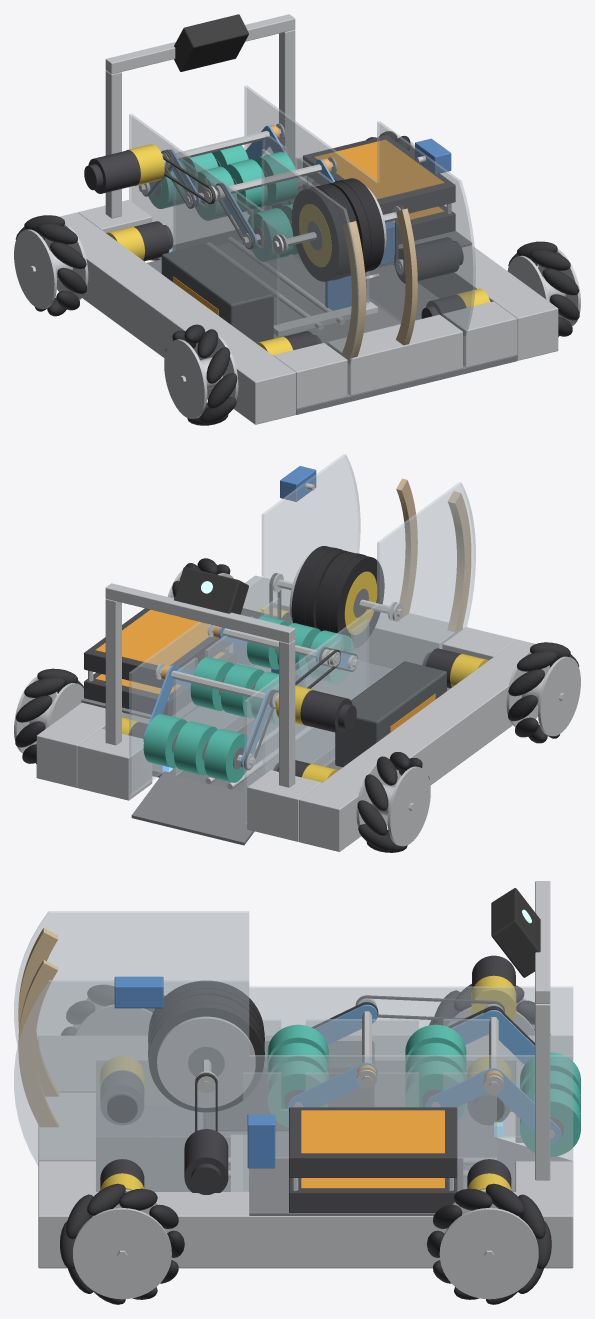
Rendered from revC_anim.glb.
3 views of the same model, one above another, from view 1: azimuth 30°, elevation 25°; view 2: azimuth 150°, elevation 25°; view 3: azimuth 270°, elevation 25° (orthographic). The views are drawn at different scales.
Parts seen in each view (by area): view 1: Side plate L, Side plate R, Frame rail L, Belly pan, Rear crossmember centre, Frame rail R, Channel wall L, Battery 12V, Expansion Hub label, Rear stub R, Rear stub L, Limelight 3A (+38 smaller); view 2: Side plate L, Side plate R, Frame rail L, Entry lip, Belly pan, Battery 12V, Channel wall L, Frame rail R, Front stub R, Rear crossmember centre, Expansion Hub label, Front stub L (+40 smaller); view 3: Side plate R, Side plate L, Frame rail R, Belly pan, Channel wall R, Mecanum FR side plate.001, Mecanum RR side plate.001, Frame rail L, Expansion Hub label, Expansion Hub, Channel wall L, Flywheel steel 82mm (+55 smaller).
Part boxes in pixels (bbox=[...]): Side plate L: bbox=[129, 113, 360, 396]; Side plate R: bbox=[244, 85, 475, 368]; Frame rail L: bbox=[44, 212, 295, 424]; Belly pan: bbox=[147, 240, 517, 414]; Rear crossmember centre: bbox=[327, 314, 462, 395]; Frame rail R: bbox=[299, 157, 558, 360]; Channel wall L: bbox=[173, 156, 279, 325]; Battery 12V: bbox=[161, 244, 273, 342]; Expansion Hub label: bbox=[314, 139, 444, 199]; Rear stub R: bbox=[442, 301, 517, 367]; Rear stub L: bbox=[273, 343, 347, 408]; Limelight 3A: bbox=[174, 14, 248, 71]; Side plate L: bbox=[244, 482, 475, 823]; Side plate R: bbox=[129, 454, 360, 795]; Frame rail L: bbox=[299, 639, 550, 851]; Entry lip: bbox=[131, 773, 254, 845]; Belly pan: bbox=[152, 661, 450, 793]; Battery 12V: bbox=[335, 661, 446, 767]; Channel wall L: bbox=[263, 620, 368, 774]; Frame rail R: bbox=[36, 575, 289, 787]; Front stub R: bbox=[77, 728, 152, 800]; Rear crossmember centre: bbox=[354, 612, 462, 668]; Expansion Hub label: bbox=[95, 609, 209, 665]; Front stub L: bbox=[247, 770, 321, 841]; Side plate R: bbox=[14, 980, 573, 1191]; Side plate L: bbox=[14, 911, 573, 1137]; Frame rail R: bbox=[38, 1192, 573, 1268]; Belly pan: bbox=[96, 1105, 496, 1191]; Channel wall R: bbox=[243, 1072, 496, 1190]; Mecanum FR side plate.001: bbox=[439, 1208, 538, 1299]; Mecanum RR side plate.001: bbox=[73, 1208, 171, 1299]; Frame rail L: bbox=[38, 1035, 573, 1111]; Expansion Hub label: bbox=[301, 1110, 444, 1153]; Expansion Hub: bbox=[289, 1107, 457, 1177]; Channel wall L: bbox=[262, 1019, 490, 1071]; Flywheel steel 82mm: bbox=[157, 1016, 255, 1107].
Size of the model in its own units: 17.6 by 10.62 by 18.54.
